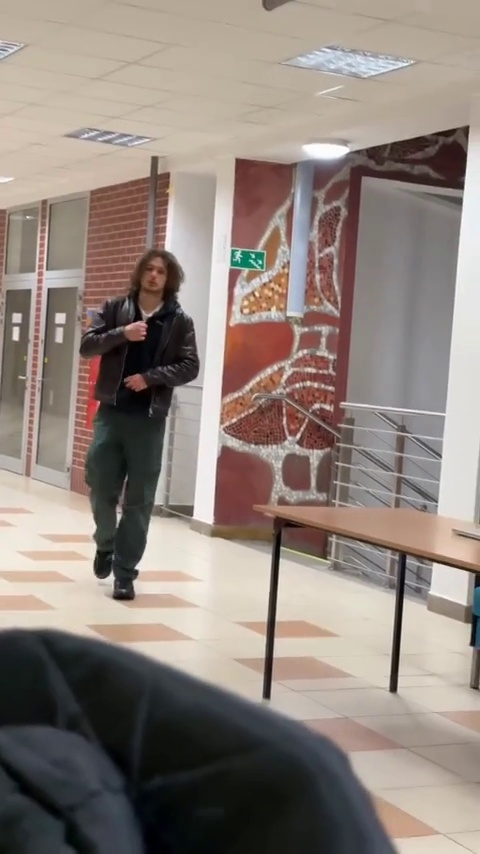no vest: (80, 247, 206, 599)
